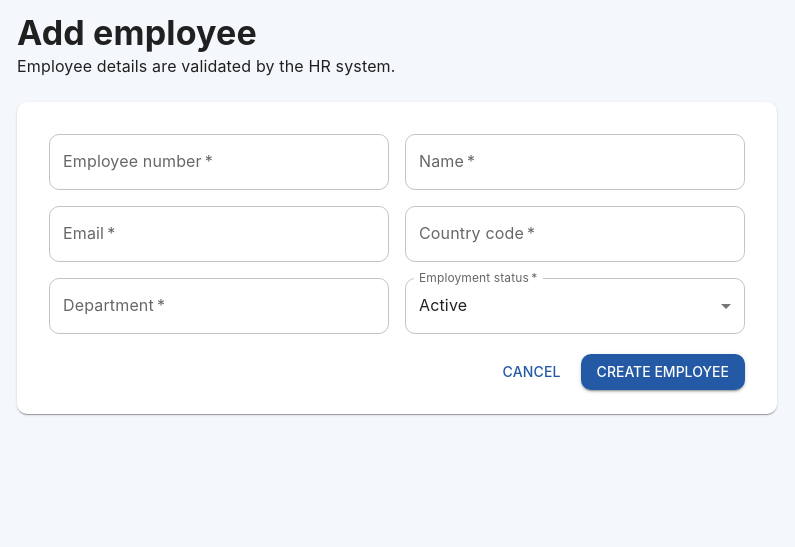
Test: employee form › displays server validation errors beside the corresponding fields
Type "EMP00012" into the field labelled "Employee number *" at (219, 162), box [49,134,389,190]
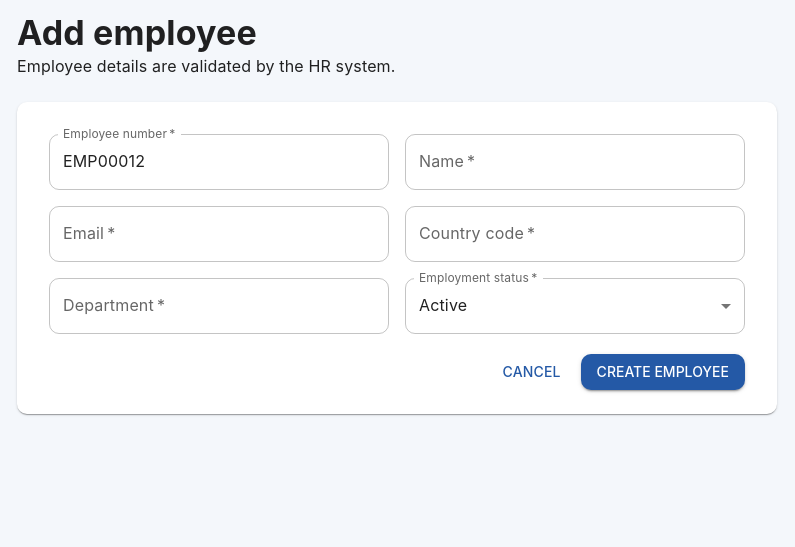
Type "Mira Shah" into the field labelled "Name *" at (575, 162), box [405,134,745,190]
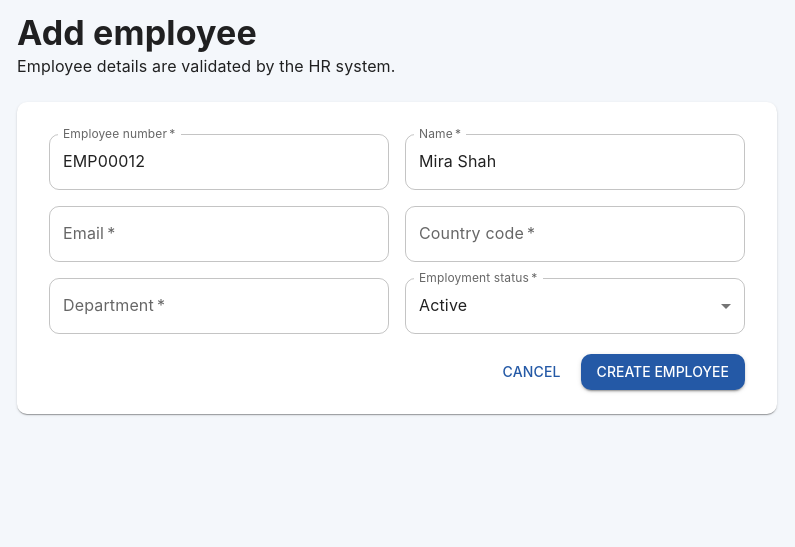
Type "mira@example.com" into the field labelled "Email *" at (219, 234), box [49,206,389,262]
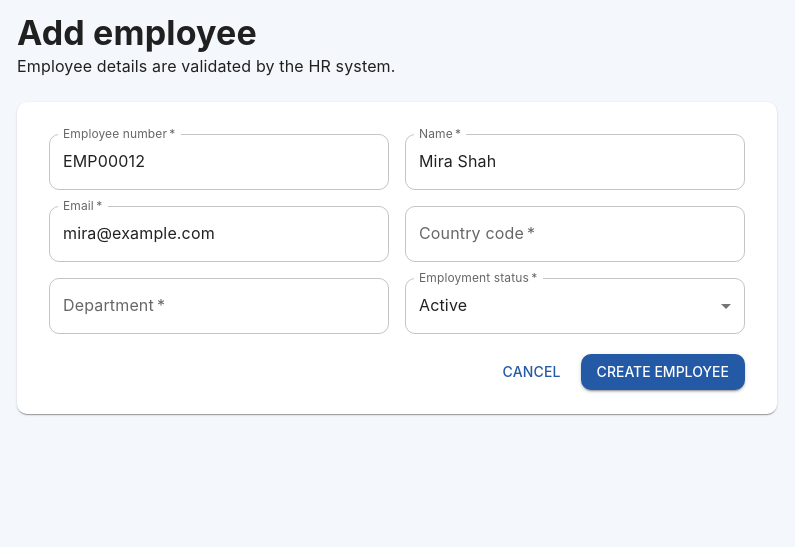
Type "IN" into the field labelled "Country code *" at (575, 234), box [405,206,745,262]
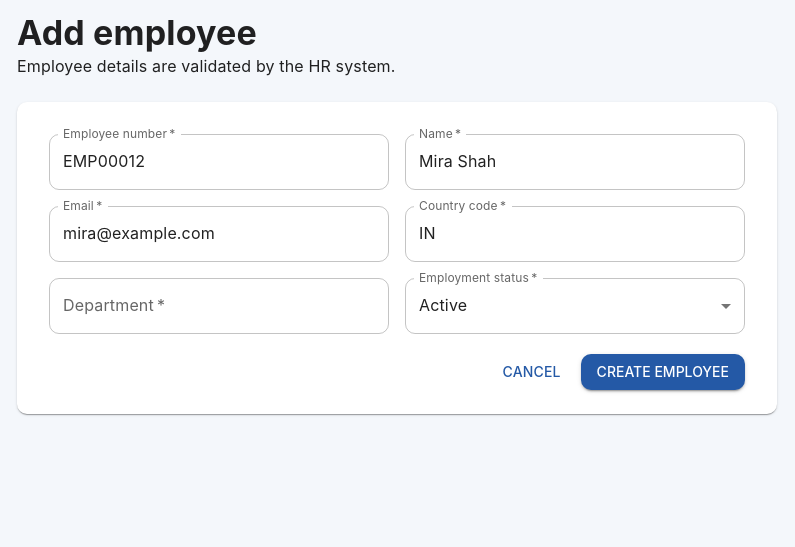
Type "Finance" into the field labelled "Department *" at (219, 306), box [49,278,389,334]
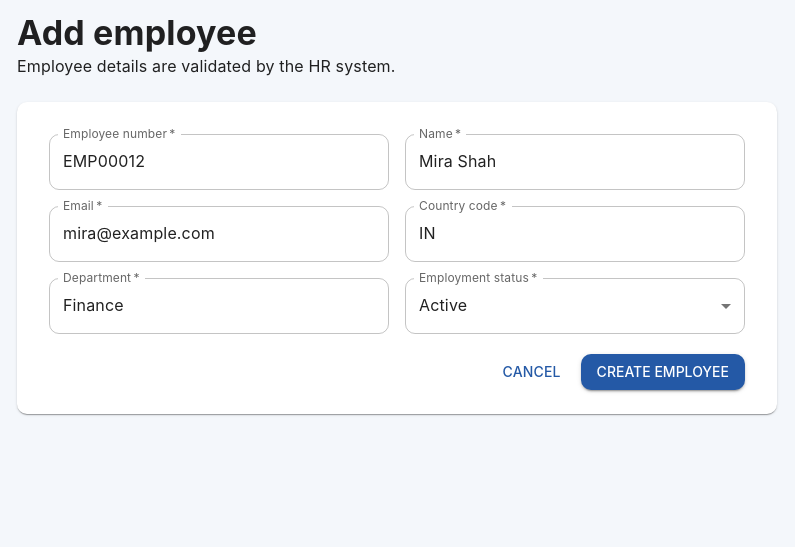
Click the button "Create employee" at (663, 372), box [581,354,745,390]
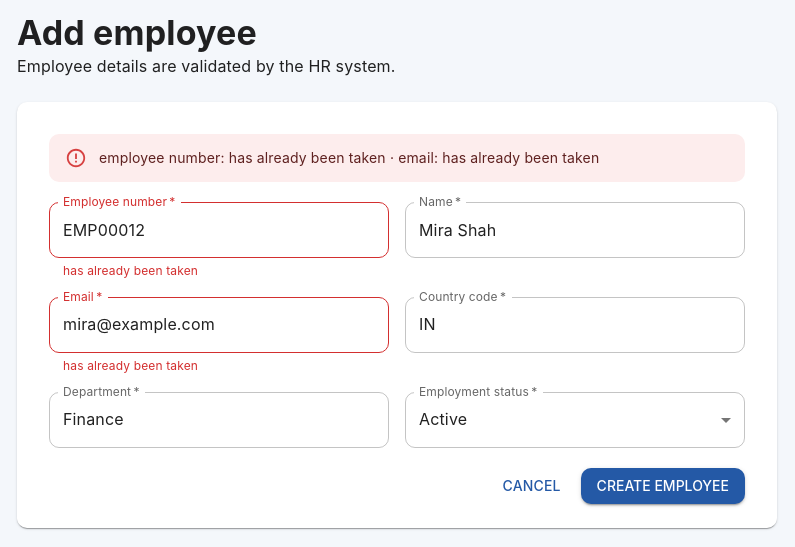
Expected: the text "has already been taken" is shown 2 times, [63,263,198,278]; [63,358,198,373]
